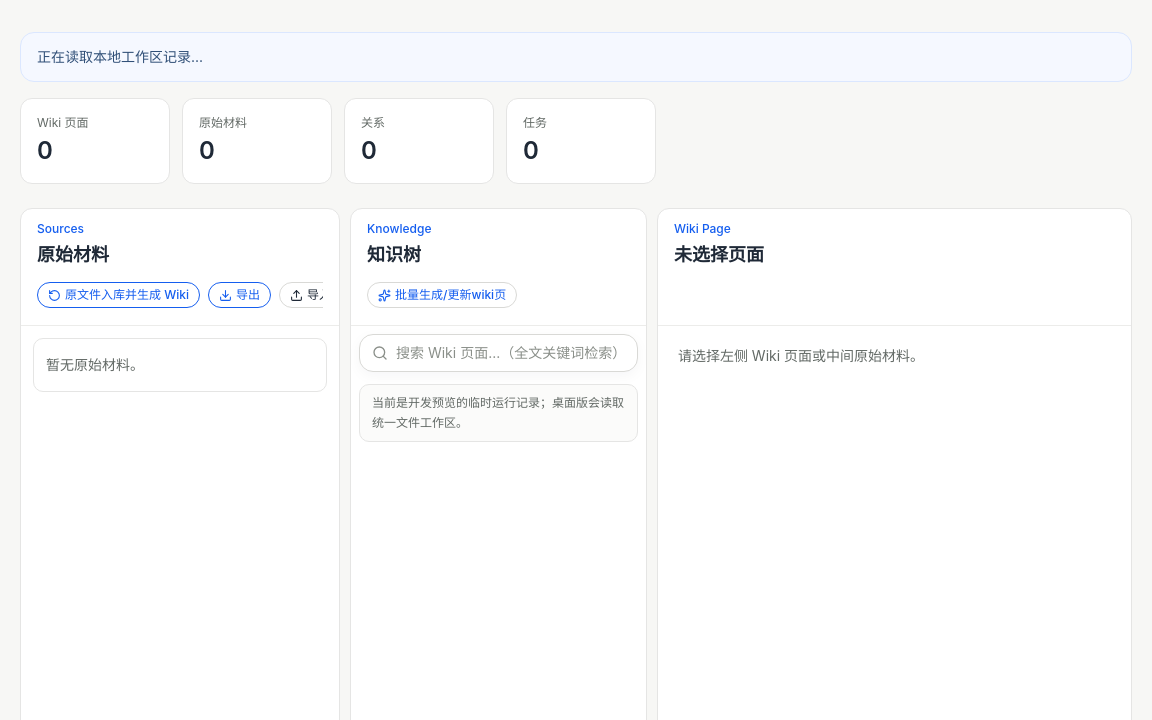
RuntimeWikiPage › searches wiki pages by full text content from the knowledge column
Expected: the text "知识树" is shown, [367, 244, 421, 265]
In the field labelled "搜索 Wiki 页面": (510, 353) [396, 343, 625, 363], type "中海广场"
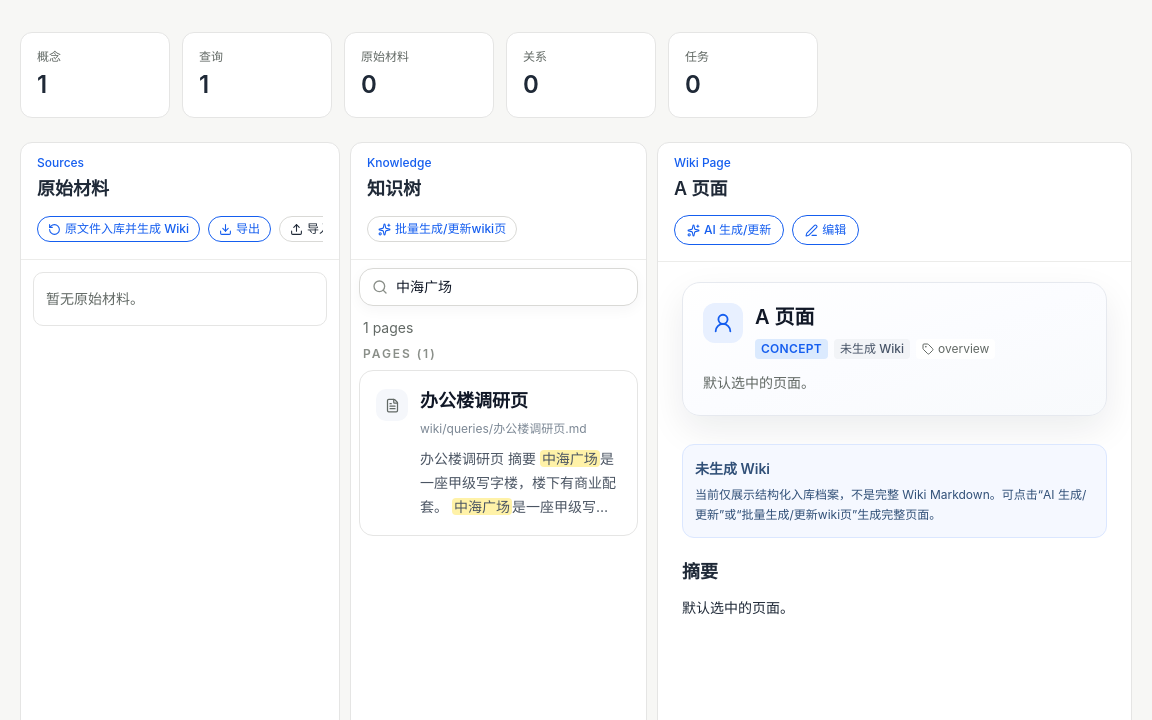
Expected: the text "1 pages" is shown, [363, 319, 413, 336]
Expected: the text "办公楼调研页" is shown
Expected: the text "wiki/queries/办公楼调研页.md" is shown, [420, 421, 586, 436]
Click the text "办公楼调研页": click(474, 400) [420, 390, 528, 411]
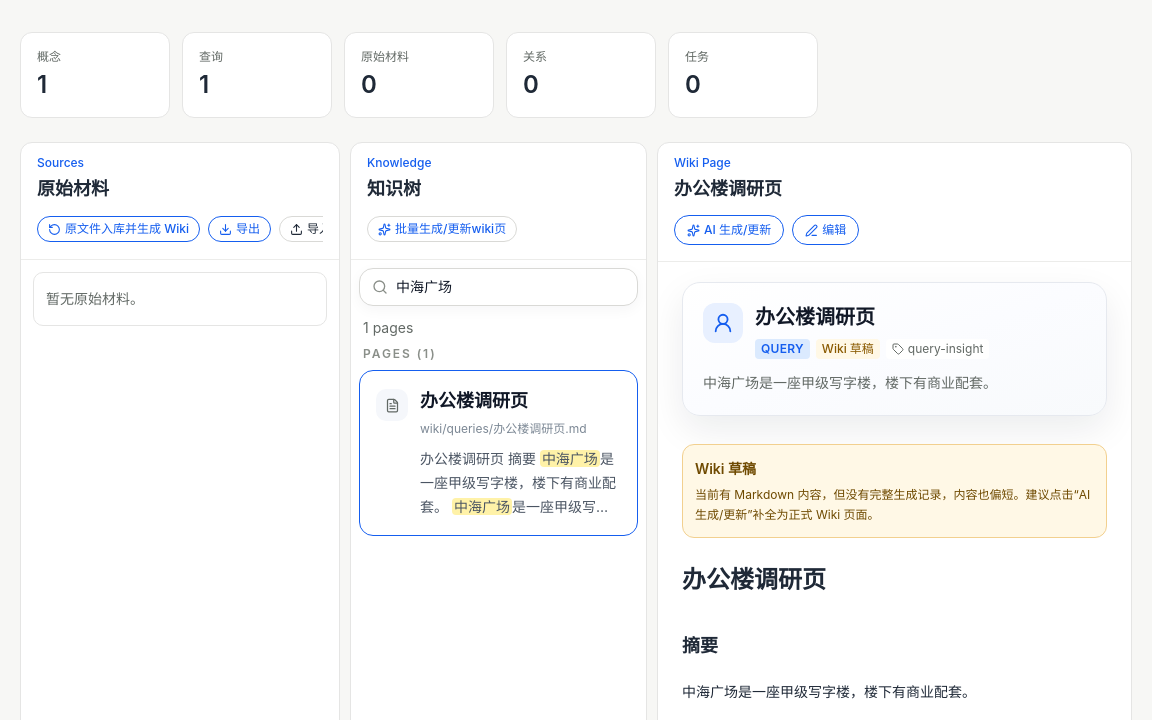
Expected: the text "中海广场是一座甲级写字楼，楼下有商业配套。" below "query-insight" is shown, [703, 374, 997, 391]
